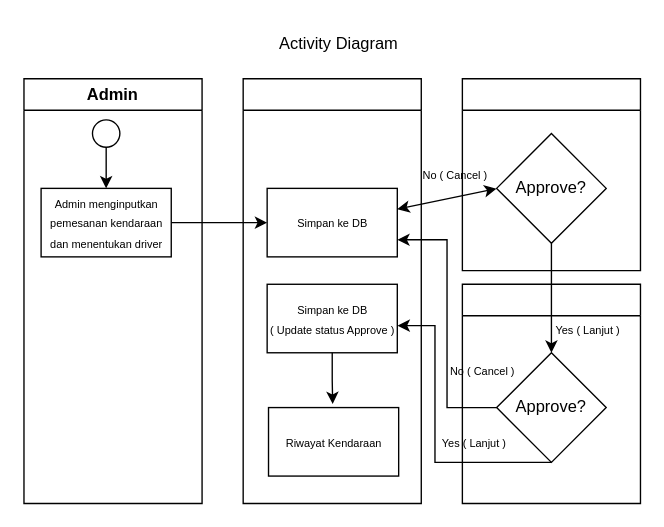
Some shapes in this 664 by 527 pixel diagram are drawn without their labels. The box of each missing label's shape, as (x1, y1, x2, y2) in pixels:
Approver 1: (461, 77, 640, 271)
Approver 2: (461, 283, 640, 503)
System: (242, 77, 421, 503)
